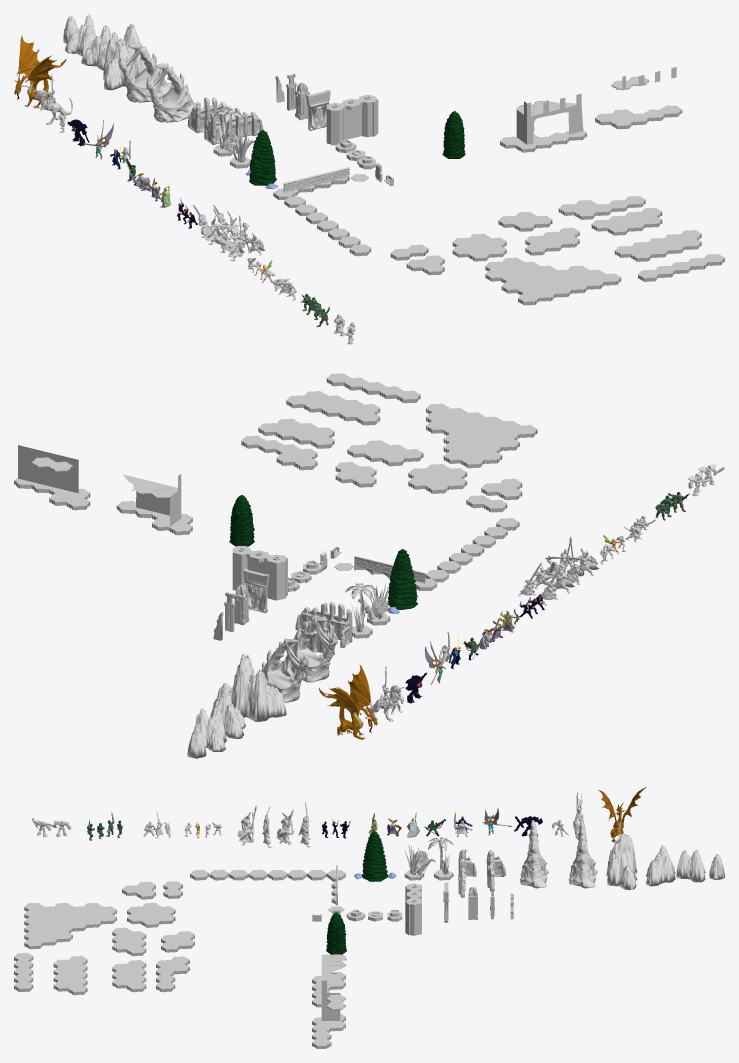
File: handmade-roadwall.glb
The picture shows the model from 3 angles, top to bottom: view 1: azimuth 30°, elevation 25°; view 2: azimuth 150°, elevation 25°; view 3: azimuth 270°, elevation 25°; orthographic projection. The views are drawn at different scales.
Parts seen in each view (by area): view 1: Subterrain_24, Marro_Hive, Subterrain-9, Marro_Hive.001_lower_poly, Glacier6, Mimring_lowpoly_colored, MarvelRuinMain, CastleArchBody, Tree415, Subterrain-7B, Ruins3, Subterrain_7 (+15 smaller); view 2: Subterrain_24, Glacier6, Marro_Hive, Mimring_lowpoly_colored, Subterrain-9, PreCopyMarvelRuin, Marro_Hive.001_lower_poly, Subterrain-7B, Tree415, Subterrain_7, CastleArchBody, Subterrain-6B (+13 smaller); view 3: Subterrain_24, Glacier6, Subterrain-9, Marro_Hive, Marro_Hive.001_lower_poly, Tree415, Subterrain-7B, Subterrain_7, Subterrain-6B, Subterrain_6, Glacier4, Glacier3 (+12 smaller).
Boxes of the visible parts, x1,y1,x2,y2 form: Subterrain_24: (485,257,621,305); Marro_Hive: (146,63,198,122); Subterrain-9: (614,230,701,261); Marro_Hive.001_lower_poly: (119,43,172,102); Glacier6: (103,24,149,90); Mimring_lowpoly_colored: (14,34,66,108); MarvelRuinMain: (516,93,583,144); CastleArchBody: (326,99,378,145); Tree415: (246,130,278,189); Subterrain-7B: (591,207,662,235); Ruins3: (204,106,263,144); Subterrain_7: (452,233,506,261); Subterrain_24: (426,403,537,468); Glacier6: (217,654,286,721); Marro_Hive: (277,616,337,682); Mimring_lowpoly_colored: (319,664,377,740); Subterrain-9: (286,391,380,425); PreCopyMarvelRuin: (18,445,78,493); Marro_Hive.001_lower_poly: (261,638,308,702); Subterrain-7B: (258,418,334,448); Tree415: (387,549,418,613); Subterrain_7: (408,464,467,493); CastleArchBody: (232,550,287,600); Subterrain-6B: (241,435,317,470); Subterrain_24: (24,903,116,949); Glacier6: (606,834,637,889); Subterrain-9: (53,956,87,995); Marro_Hive: (520,820,548,888); Marro_Hive.001_lower_poly: (568,820,597,888); Tree415: (354,831,396,881); Subterrain-7B: (112,960,146,992); Subterrain_7: (127,903,175,927); Subterrain-6B: (156,956,189,992); Subterrain_6: (112,927,146,956); Glacier4: (645,845,675,886); Glacier3: (676,849,705,882).
Size of the model in its own units: 53.5 by 6.55 by 72.84.
